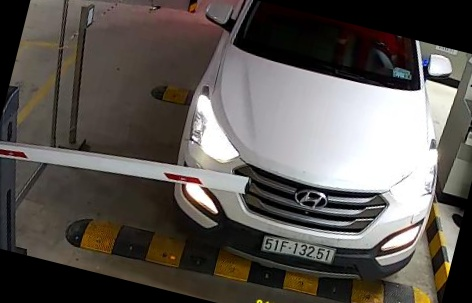plate: (258, 233, 347, 275)
